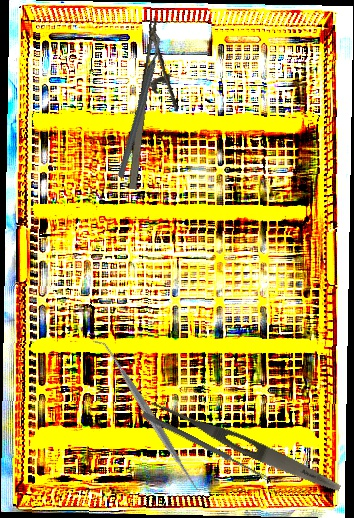Chopper: (68, 28, 209, 180)
Dressing Forceps: (146, 395, 344, 497)
Needle Holder: (123, 15, 192, 195)
Spatula Surgical: (91, 330, 208, 501)
Surgical Spoon: (141, 411, 270, 482)
